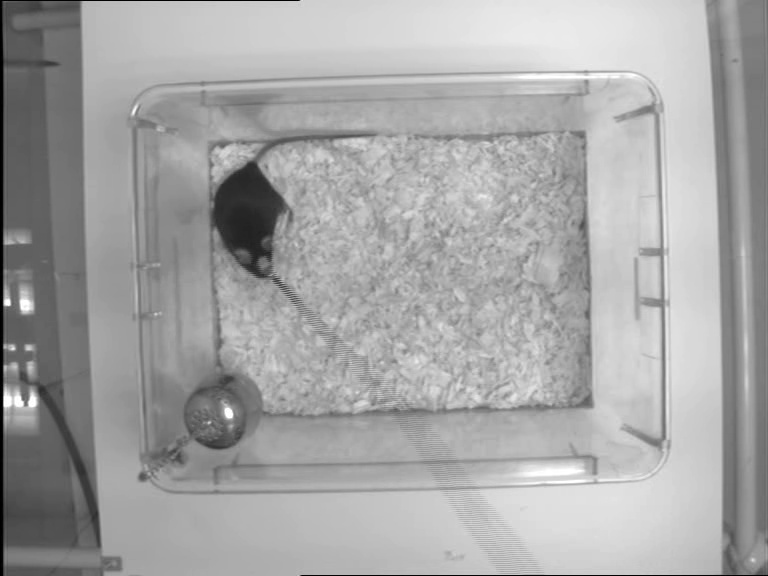mice: (210, 129, 379, 280)
